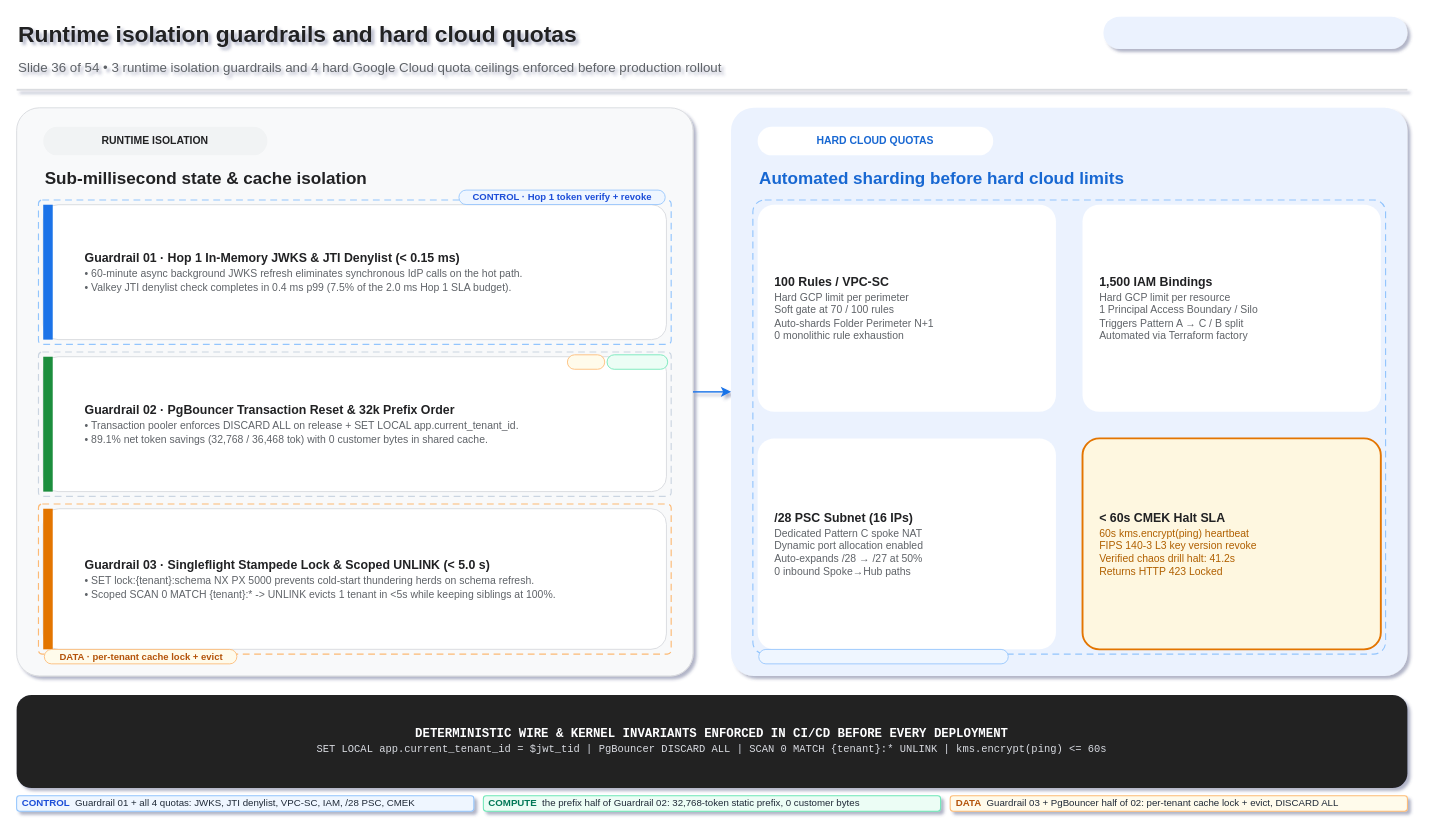
The diagram is 1431 pixels wide and 833 high, and some of its shapes have lost their labels. The shapes that lost their labels are listed below. From the top down, each one's box as (x1, y1, x2, y2) in pixels, then its label:
(1103, 16, 1407, 48): 3 GUARDRAILS • 4 CLOUD QUOTAS
(566, 354, 605, 369): DATA
(606, 354, 668, 369): COMPUTE
(758, 649, 1008, 664): CONTROL · perimeter, IAM, PSC and key limits
